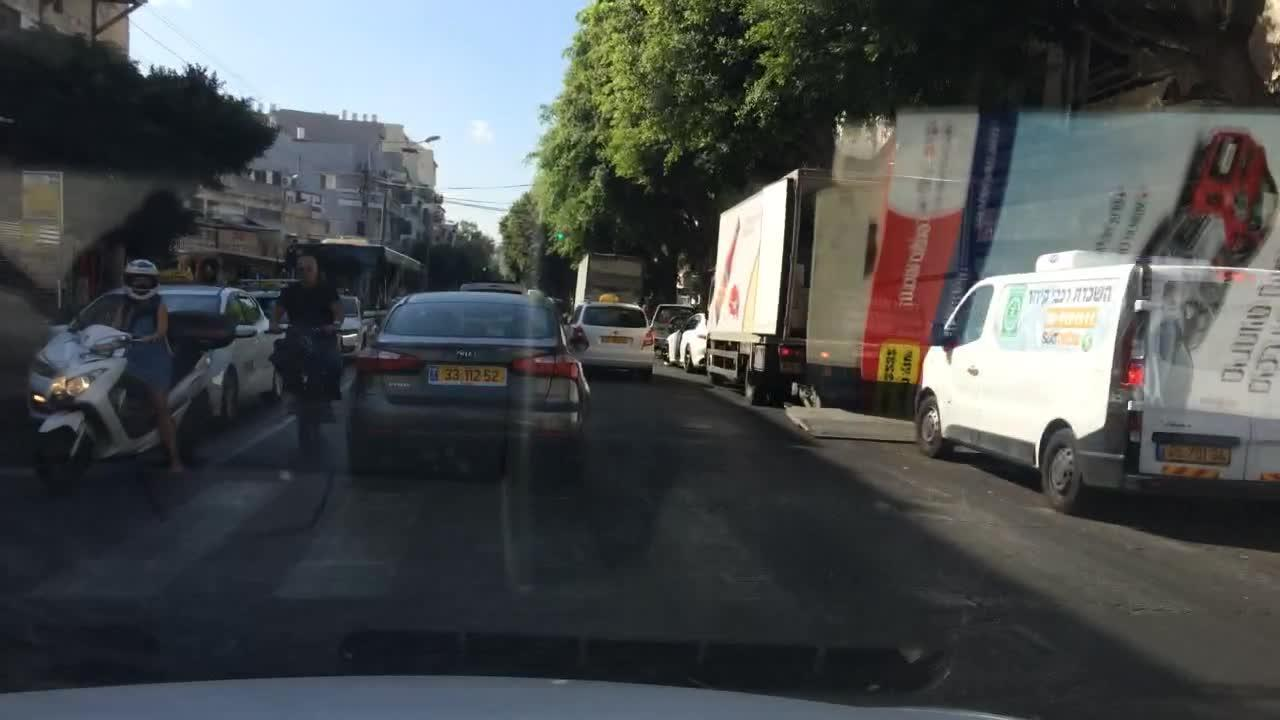kia: (453, 349, 479, 363)
